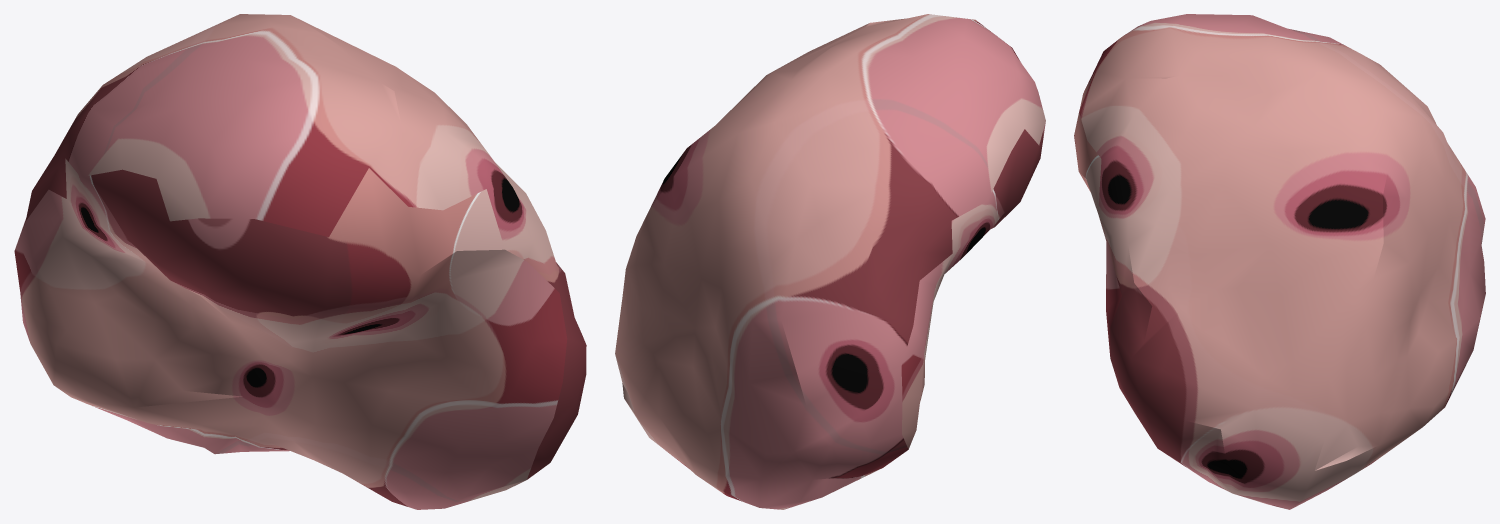
The model's file is RockNew.fbx.
The picture shows the model from 3 angles, left to right: view 1: azimuth 30°, elevation 25°; view 2: azimuth 150°, elevation 25°; view 3: azimuth 270°, elevation 25°; orthographic projection. The views are drawn at different scales.
Parts seen in each view (by area): view 1: rock; view 2: rock; view 3: rock.
Part boxes in pixels (box(x1,y1,x2,y2)): rock: box(14, 14, 586, 509); rock: box(615, 14, 1045, 509); rock: box(1074, 14, 1485, 509).
Size of the model in its own units: 95.5 by 109 by 101.
